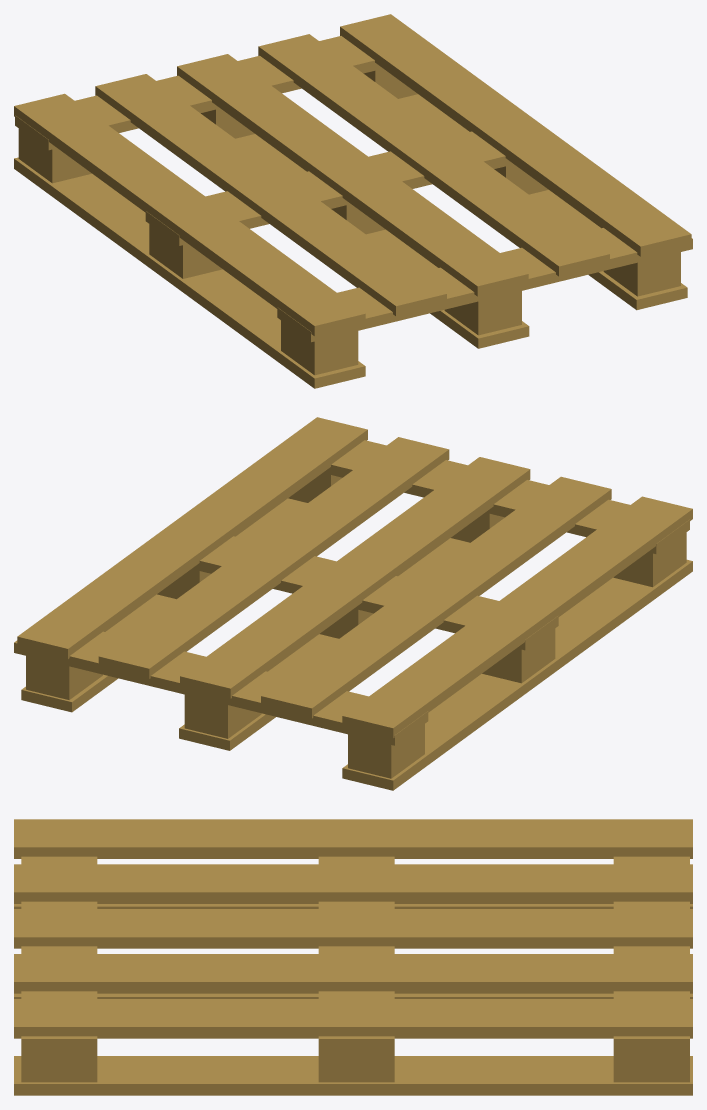
Rendered from prop-pallet-BqQqsa0K.glb.
The picture shows the model from 3 angles, top to bottom: view 1: azimuth 30°, elevation 25°; view 2: azimuth 150°, elevation 25°; view 3: azimuth 270°, elevation 25°; orthographic projection. The views are drawn at different scales.
Parts seen in each view (by area): view 1: pallet; view 2: pallet; view 3: pallet.
Part boxes in pixels (x1,y1,x2,y2): pallet: (14, 14, 692, 388); pallet: (14, 417, 692, 790); pallet: (14, 819, 692, 1095).
Size of the model in its own units: 0.8925 by 0.14 by 1.22.
